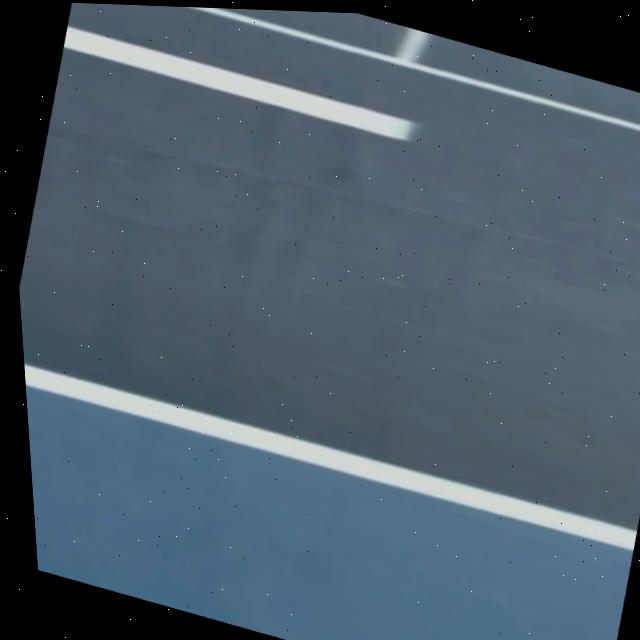center: (63, 26, 414, 140)
left: (24, 365, 637, 551)
